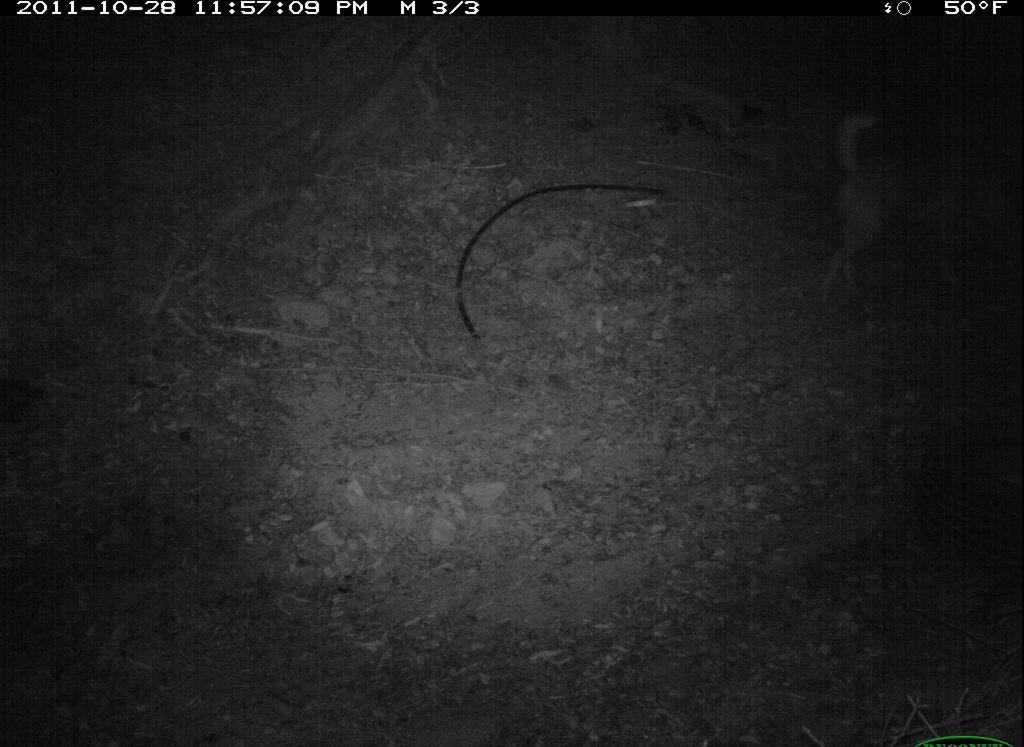dog: (816, 103, 1003, 315)
